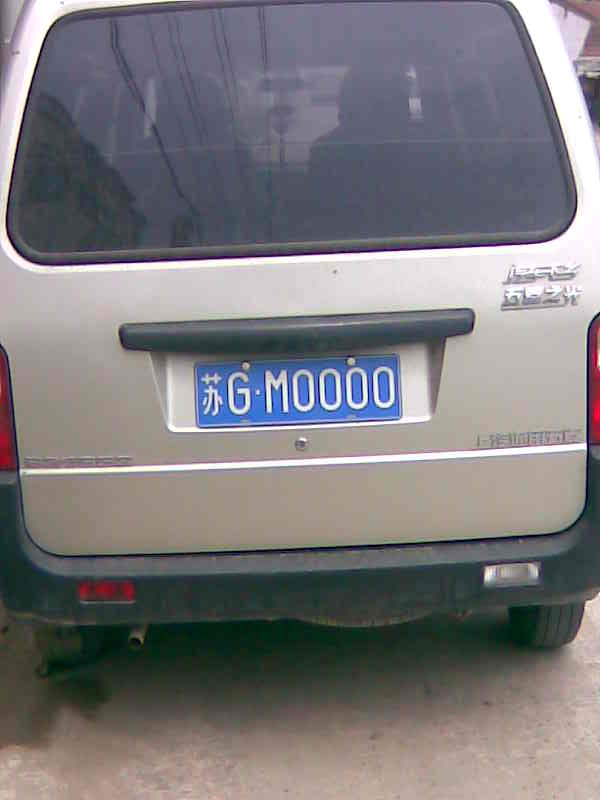plate_number: (193, 360, 406, 431)
